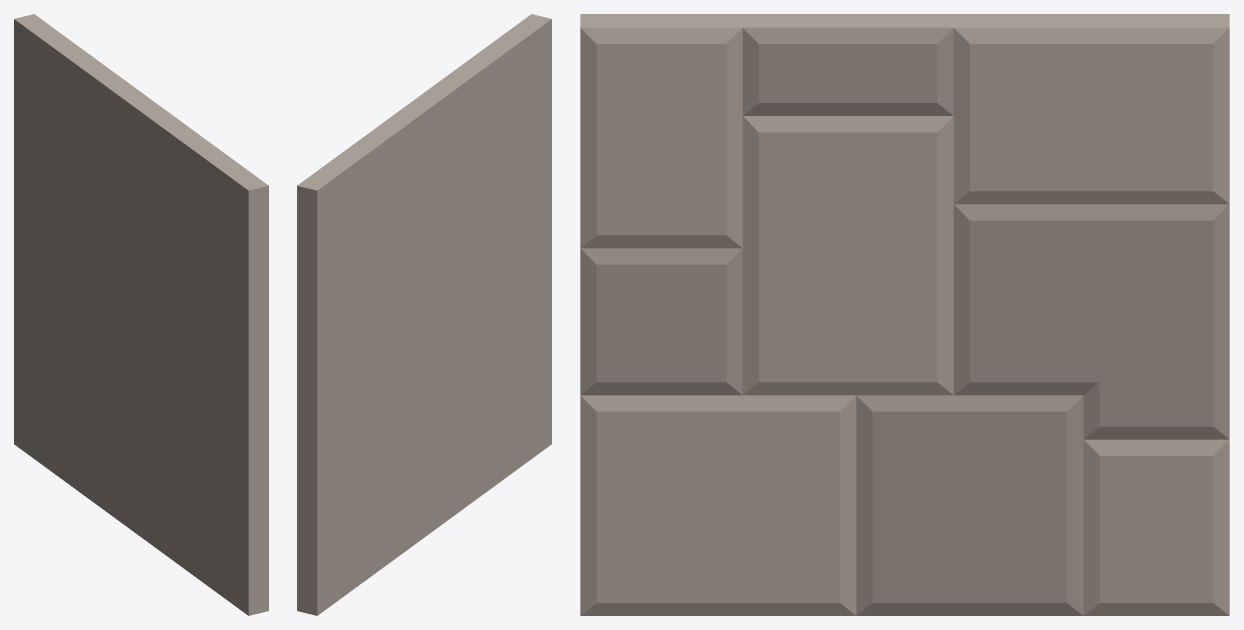
Rendered from paredPiedra2.glb.
3 views of the same model, side by side, from view 1: azimuth 30°, elevation 25°; view 2: azimuth 150°, elevation 25°; view 3: azimuth 270°, elevation 25° (orthographic). The views are drawn at different scales.
Visible parts, largest first — view 1: object1; view 2: object1; view 3: object1.
Part boxes in pixels (bbox=[...]): object1: bbox=[14, 14, 268, 615]; object1: bbox=[297, 14, 551, 615]; object1: bbox=[580, 14, 1229, 615].
Size of the model in its own units: 0.0563 by 1 by 1.
